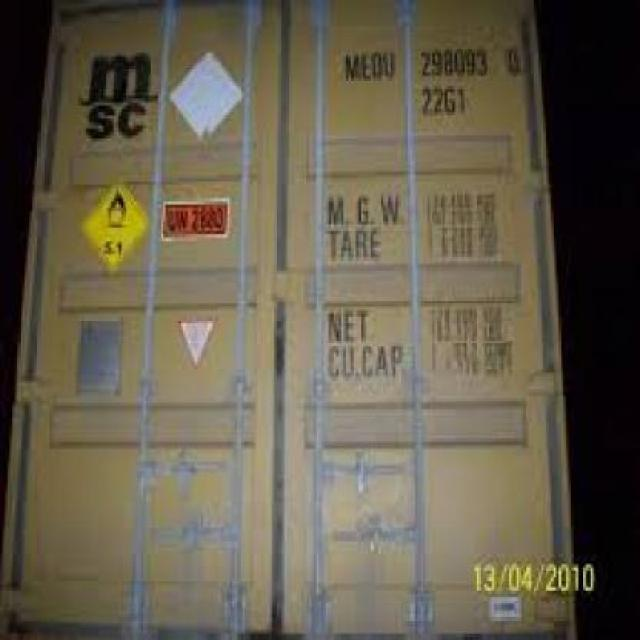ISO: (420, 88, 468, 116)
container_number: (345, 47, 521, 78)
